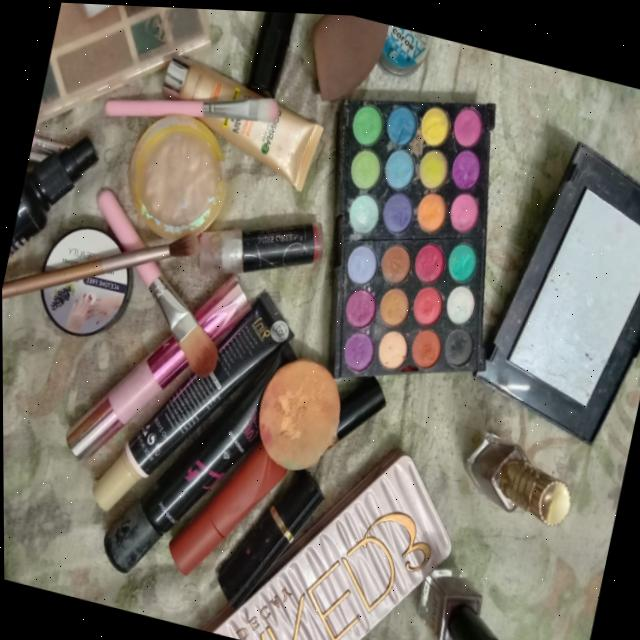beauty blender: (286, 10, 453, 139), (243, 339, 354, 482)
brush: (1, 186, 261, 365)
eye shade: (293, 62, 533, 384), (32, 1, 294, 188)
mascara: (67, 250, 281, 559)
mirror: (474, 110, 640, 430)
nail polish: (380, 542, 554, 640)
